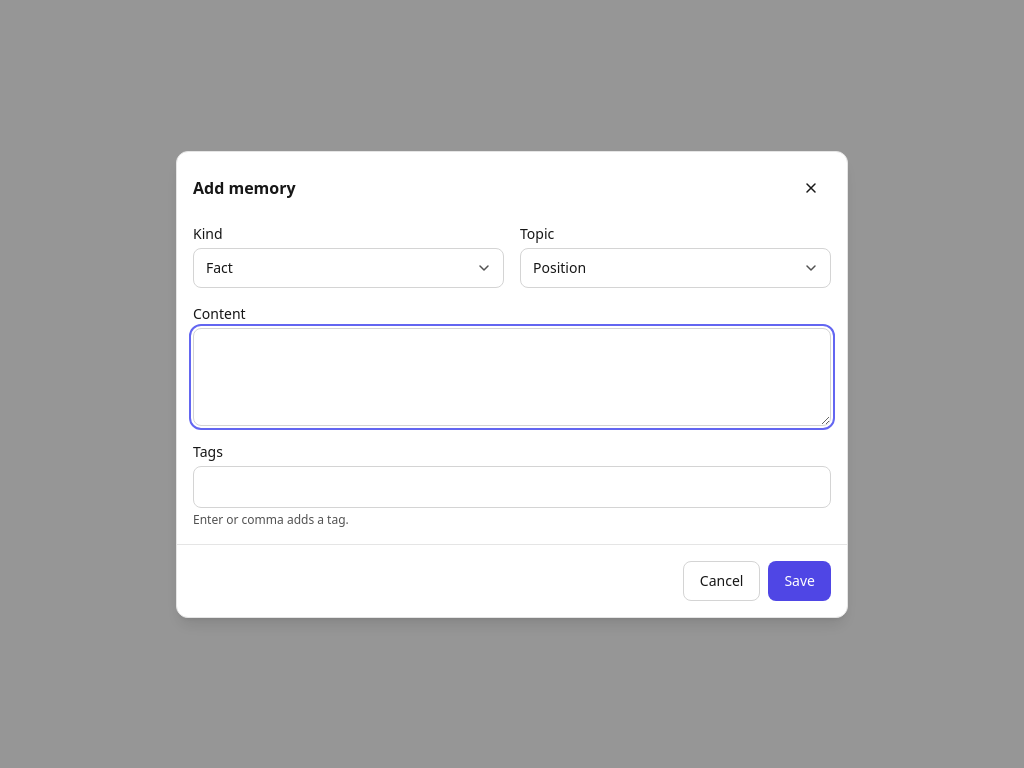
it: MemoryFormDialog › disables Save while saving
Type "x" into the text box labelled "Content" at (512, 376), box top-left (193, 328), bottom-right (831, 426)
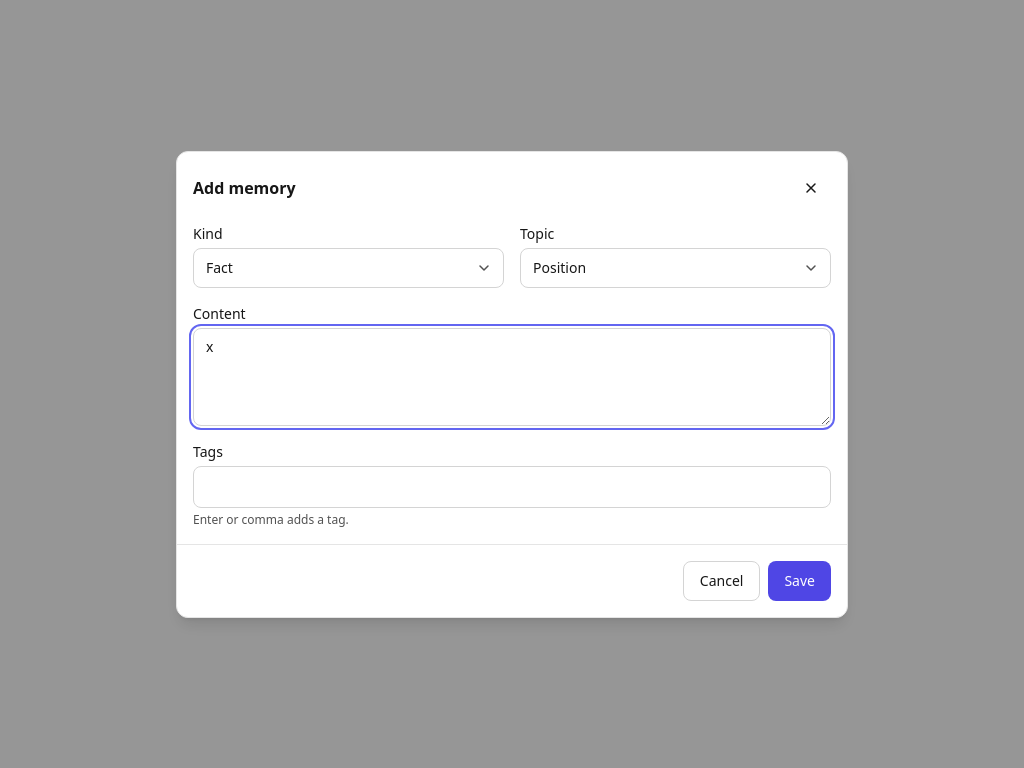
Click the button "Save" at (800, 580), box top-left (768, 560), bottom-right (831, 600)
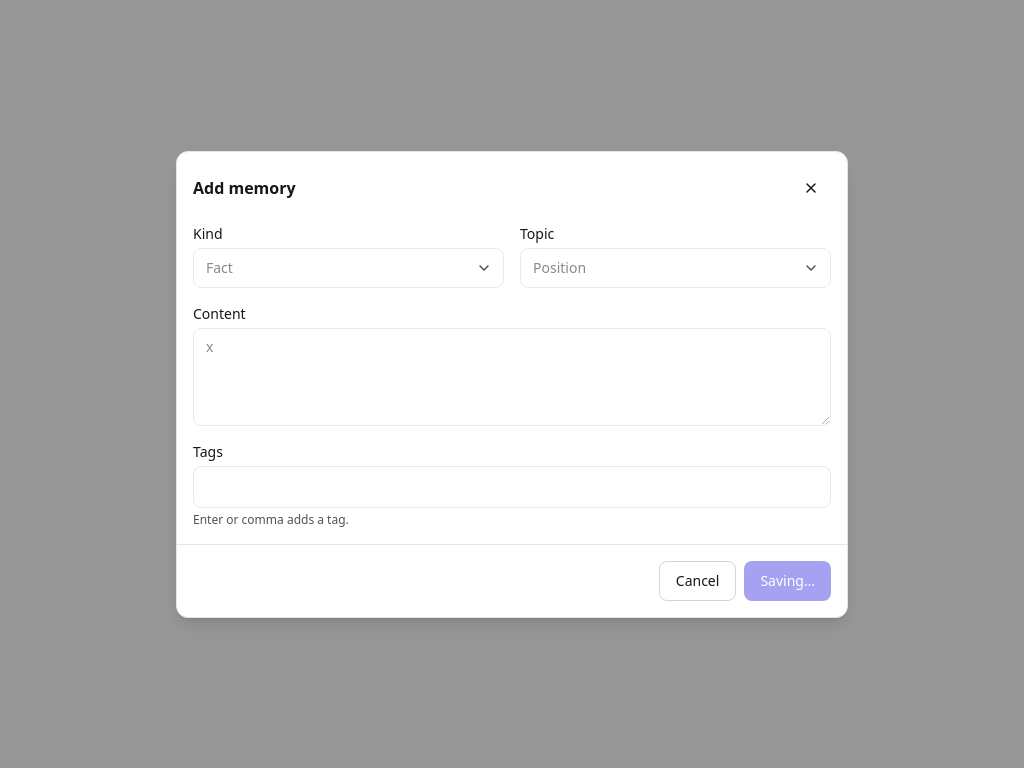
Now the button "Saving…" is disabled, box top-left (744, 560), bottom-right (831, 600)
